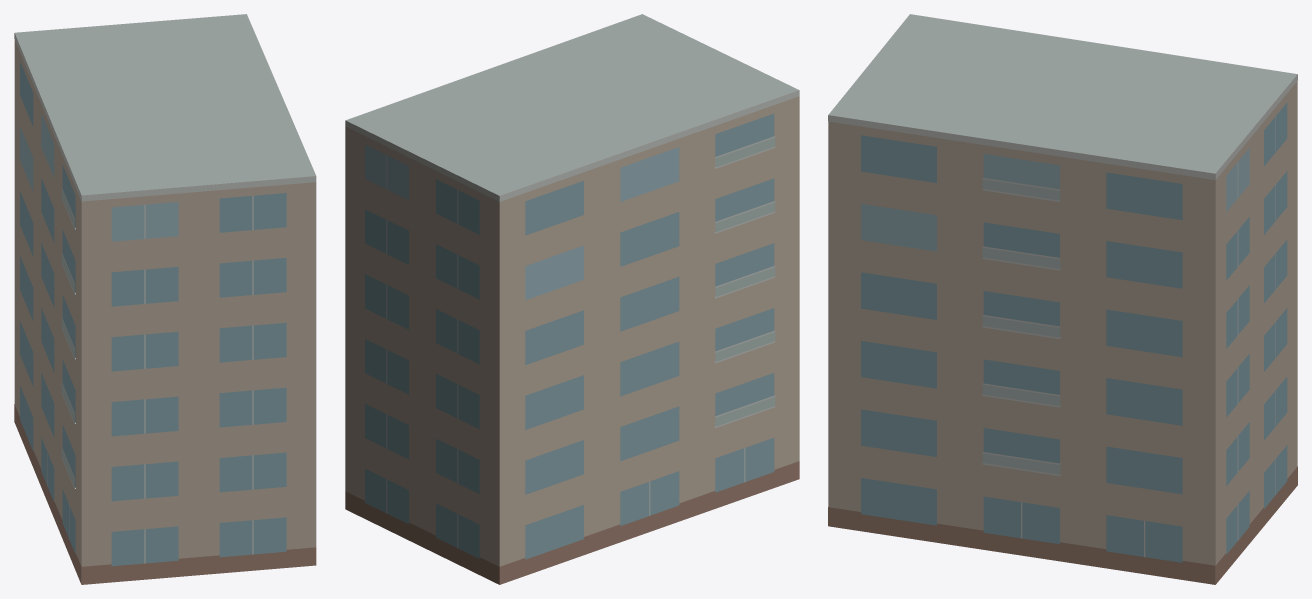
File: survey-upis-32841988.glb
3 views of the same model, side by side, from view 1: azimuth 30°, elevation 25°; view 2: azimuth 150°, elevation 25°; view 3: azimuth 270°, elevation 25° (orthographic). The views are drawn at different scales.
Visible parts, largest first — view 1: survey-upis-32841988.tmp; view 2: survey-upis-32841988.tmp; view 3: survey-upis-32841988.tmp.
Boxes of the visible parts, x1,y1,x2,y2 form: survey-upis-32841988.tmp: (14, 14, 316, 584); survey-upis-32841988.tmp: (345, 14, 799, 584); survey-upis-32841988.tmp: (828, 14, 1297, 584).
Size of the model in its own units: 13.09 by 15.7 by 16.26.
